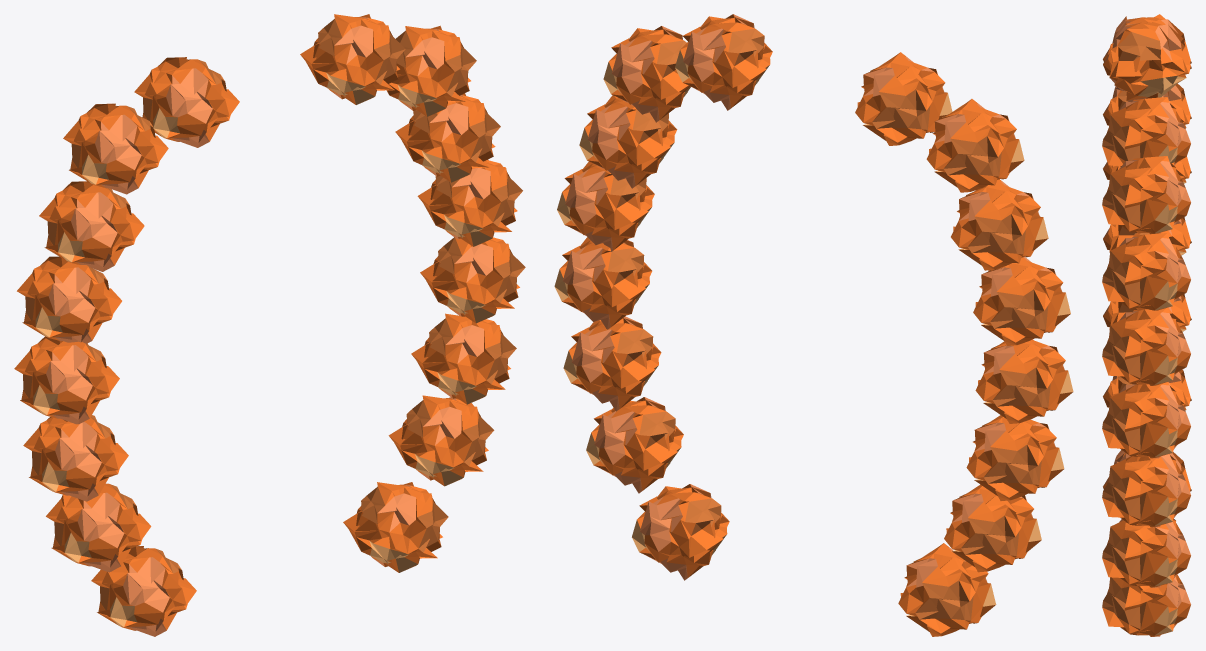
The model's file is Asteroid_Belt_2.fbx.
The picture shows the model from 3 angles, left to right: view 1: azimuth 30°, elevation 25°; view 2: azimuth 150°, elevation 25°; view 3: azimuth 270°, elevation 25°; orthographic projection. The views are drawn at different scales.
Visible parts, largest first — view 1: Icosphere.007, Icosphere.006, Icosphere.008, Icosphere.016, Icosphere.009, Icosphere.015, Icosphere.005, Icosphere.014, Icosphere.004, Icosphere.003, Icosphere.001, Icosphere.013 (+4 smaller); view 2: Icosphere.016, Icosphere.009, Icosphere.015, Icosphere.007, Icosphere.006, Icosphere.014, Icosphere.008, Icosphere.005, Icosphere.001, Icosphere.004, Icosphere.013, Icosphere.003 (+4 smaller); view 3: Icosphere.010, Icosphere.011, Icosphere.012, Icosphere.013, Icosphere.008, Icosphere.014, Icosphere.015, Icosphere.009, Icosphere.016, Icosphere.004, Icosphere.006, Icosphere.003 (+4 smaller).
Boxes of the visible parts, x1,y1,x2,y2 form: Icosphere.007: (63, 103, 168, 194); Icosphere.006: (39, 181, 144, 271); Icosphere.008: (134, 57, 239, 147); Icosphere.016: (343, 482, 448, 572); Icosphere.009: (300, 14, 405, 104); Icosphere.015: (388, 395, 494, 486); Icosphere.005: (17, 256, 121, 343); Icosphere.014: (411, 313, 516, 404); Icosphere.004: (14, 336, 119, 424); Icosphere.003: (23, 415, 128, 501); Icosphere.001: (91, 546, 196, 636); Icosphere.013: (420, 237, 525, 323); Icosphere.016: (632, 484, 729, 580); Icosphere.009: (675, 14, 772, 110); Icosphere.015: (586, 397, 683, 493); Icosphere.007: (926, 99, 1024, 192); Icosphere.006: (951, 179, 1048, 270); Icosphere.014: (563, 316, 661, 411); Icosphere.008: (855, 52, 952, 145); Icosphere.005: (973, 257, 1070, 345); Icosphere.001: (898, 543, 996, 636); Icosphere.004: (975, 339, 1073, 423); Icosphere.013: (554, 237, 652, 329); Icosphere.003: (966, 415, 1064, 500); Icosphere.010: (1102, 156, 1190, 234); Icosphere.011: (1102, 233, 1190, 310); Icosphere.012: (1102, 307, 1190, 385); Icosphere.013: (1102, 382, 1190, 458); Icosphere.008: (1103, 19, 1191, 102); Icosphere.014: (1102, 453, 1190, 527); Icosphere.015: (1102, 519, 1190, 587); Icosphere.009: (1102, 97, 1190, 166); Icosphere.016: (1102, 574, 1190, 636); Icosphere.004: (1103, 217, 1191, 255); Icosphere.006: (1103, 83, 1191, 128); Icosphere.003: (1103, 294, 1191, 331).
Size of the model in its own units: 333 by 360 by 56.56.
